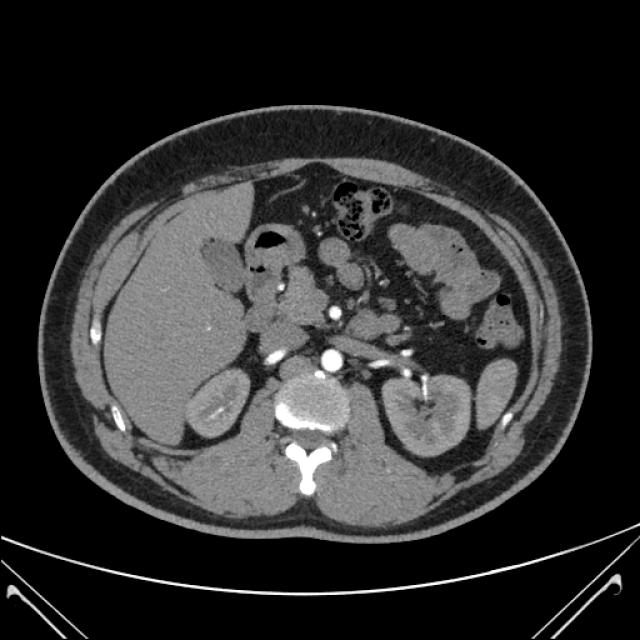Kidney: (0, 28, 595, 518)
